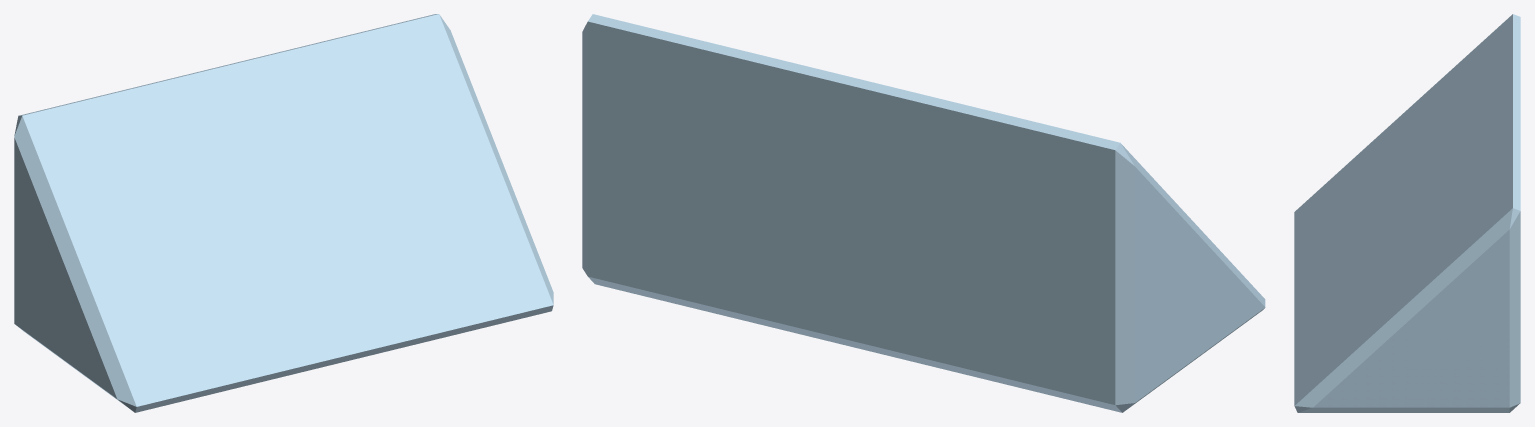
Rendered from R4B_WideWedge_LOD1.glb.
The picture shows the model from 3 angles, left to right: view 1: azimuth 30°, elevation 25°; view 2: azimuth 150°, elevation 25°; view 3: azimuth 270°, elevation 25°; orthographic projection. The views are drawn at different scales.
Parts seen in each view (by area): view 1: R4B_WideWedge_LOD1; view 2: R4B_WideWedge_LOD1; view 3: R4B_WideWedge_LOD1.
Boxes of the visible parts, box(x1,y1,x2,y2) form: R4B_WideWedge_LOD1: box(14, 14, 553, 412); R4B_WideWedge_LOD1: box(582, 14, 1265, 412); R4B_WideWedge_LOD1: box(1294, 14, 1520, 412).
Size of the model in its own units: 1.07 by 0.503 by 0.503.
